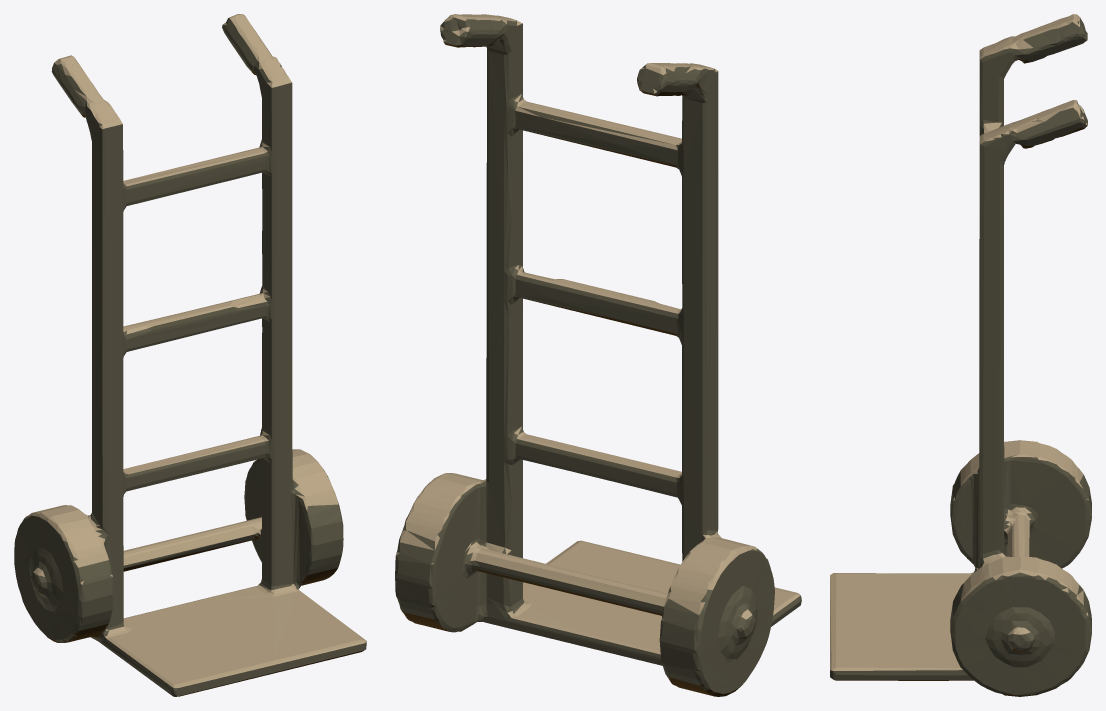
Rendered from SM_Carretilla_v5.fbx.
The picture shows the model from 3 angles, left to right: view 1: azimuth 30°, elevation 25°; view 2: azimuth 150°, elevation 25°; view 3: azimuth 270°, elevation 25°; orthographic projection. The views are drawn at different scales.
Visible parts, largest first — view 1: SM_Carretilla_v5; view 2: SM_Carretilla_v5; view 3: SM_Carretilla_v5.
Boxes of the visible parts, x1=… form: SM_Carretilla_v5: x1=14, y1=14, x2=366, y2=696; SM_Carretilla_v5: x1=395, y1=14, x2=801, y2=696; SM_Carretilla_v5: x1=830, y1=14, x2=1091, y2=696.
Size of the model in its own units: 0.6533 by 1.2 by 0.4958.
1 material, 1 textured.
